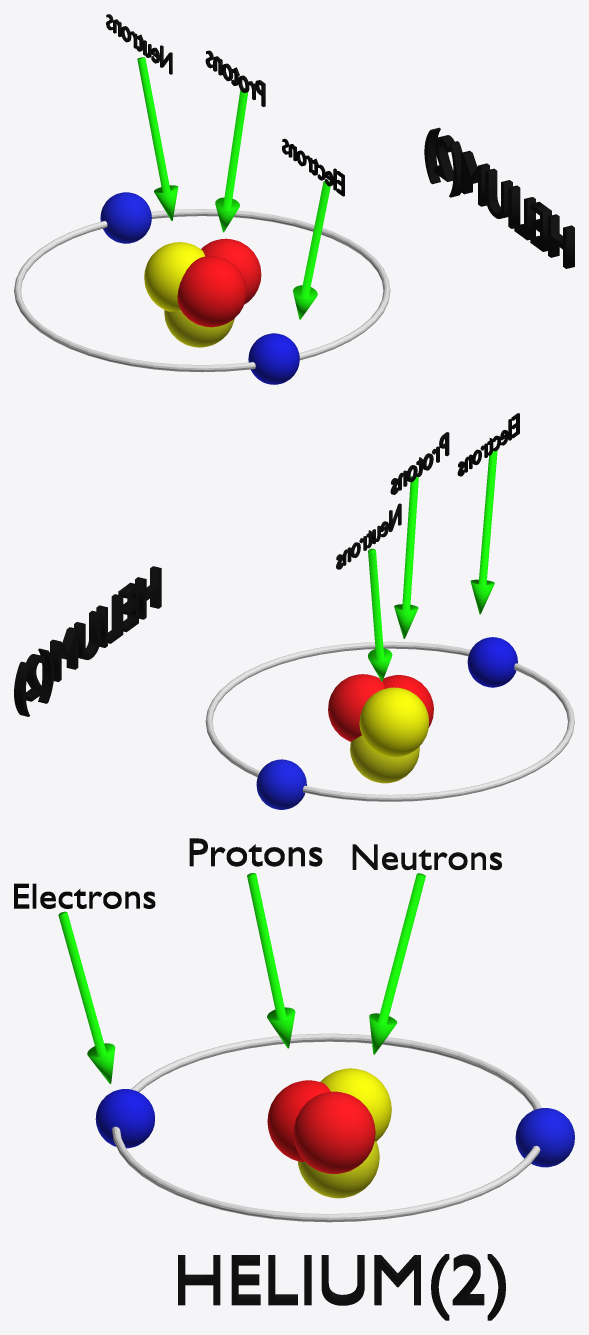
The model's file is Helium Atomic Model.gltf.
3 views of the same model, one above another, from view 1: azimuth 30°, elevation 25°; view 2: azimuth 150°, elevation 25°; view 3: azimuth 270°, elevation 25° (orthographic). The views are drawn at different scales.
Visible parts, largest first — view 1: Text.003, Torus.001, Sphere, Sphere.003, Sphere.005, Sphere.004, Cylinder.001, Sphere.001, Cylinder.000, Cylinder.003, Sphere.002, Text.002 (+2 smaller); view 2: Text.003, Torus.001, Sphere.003, Sphere.001, Sphere.004, Sphere.005, Sphere.002, Cylinder.003, Cylinder.000, Cylinder.001, Text.002, Text.001 (+2 smaller); view 3: Torus.001, Text.003, Sphere.001, Sphere.005, Sphere.004, Sphere, Sphere.003, Cylinder.001, Cylinder.000, Cylinder.003, Sphere.002, Text.002 (+2 smaller).
Boxes of the visible parts, <box> form: Text.003: <box>424,127,574,268</box>; Torus.001: <box>14,209,390,372</box>; Sphere: <box>177,256,246,327</box>; Sphere.003: <box>144,242,204,311</box>; Sphere.005: <box>100,192,151,243</box>; Sphere.004: <box>248,333,299,384</box>; Cylinder.001: <box>137,57,178,220</box>; Sphere.001: <box>201,238,261,304</box>; Cylinder.000: <box>215,88,248,232</box>; Cylinder.003: <box>293,180,330,319</box>; Sphere.002: <box>164,310,234,347</box>; Text.002: <box>106,14,172,74</box>; Text.003: <box>14,566,161,716</box>; Torus.001: <box>205,641,574,801</box>; Sphere.003: <box>359,687,429,757</box>; Sphere.001: <box>328,674,384,741</box>; Sphere.004: <box>467,637,517,687</box>; Sphere.005: <box>256,759,306,809</box>; Sphere.002: <box>350,735,419,783</box>; Cylinder.003: <box>470,450,497,614</box>; Cylinder.000: <box>394,476,418,638</box>; Cylinder.001: <box>368,548,392,681</box>; Text.002: <box>336,503,401,569</box>; Text.001: <box>390,432,449,494</box>; Torus.001: <box>112,1033,541,1222</box>; Text.003: <box>178,1254,505,1320</box>; Sphere.001: <box>293,1091,375,1173</box>; Sphere.005: <box>515,1108,574,1167</box>; Sphere.004: <box>95,1089,154,1148</box>; Sphere: <box>267,1080,330,1161</box>; Sphere.003: <box>320,1068,391,1141</box>; Cylinder.001: <box>369,873,425,1054</box>; Cylinder.000: <box>247,873,295,1048</box>; Cylinder.003: <box>58,911,115,1083</box>; Sphere.002: <box>297,1141,379,1198</box>; Text.002: <box>352,844,501,870</box>.
Bounding box in the file's own units: 2.52 × 1.57 × 2.25.
